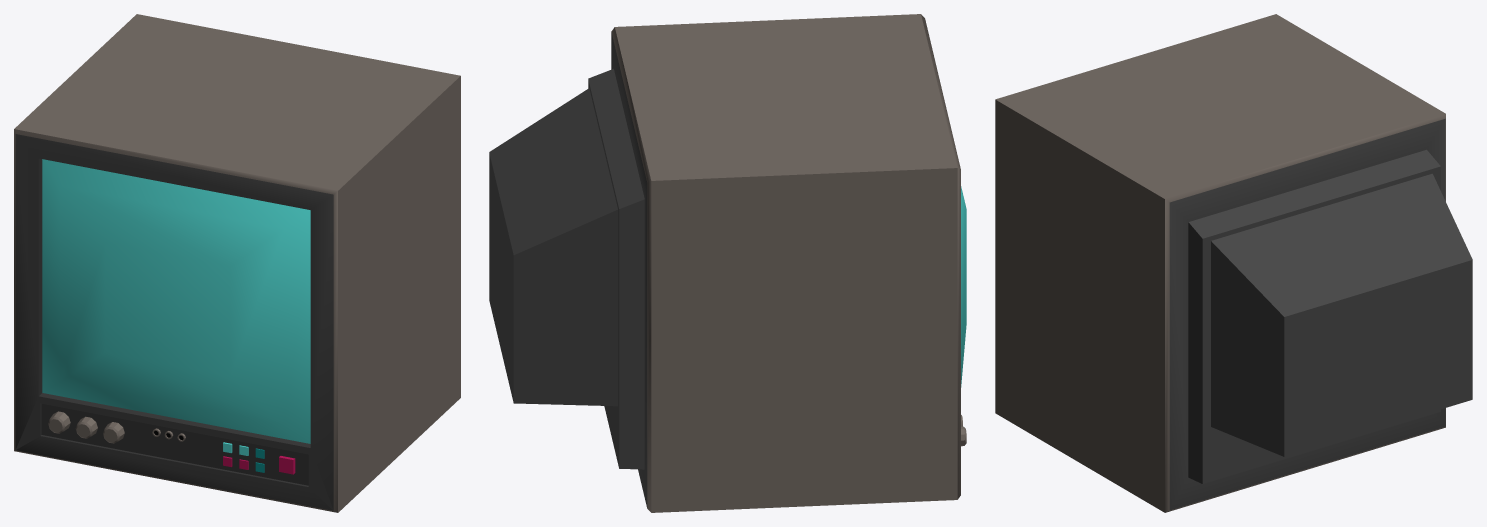
The model's file is Monitor2.fbx.
The picture shows the model from 3 angles, left to right: view 1: azimuth 30°, elevation 25°; view 2: azimuth 150°, elevation 25°; view 3: azimuth 270°, elevation 25°; orthographic projection. The views are drawn at different scales.
Parts seen in each view (by area): view 1: Monitor2; view 2: Monitor2; view 3: Monitor2.
Part boxes in pixels (box(x1,y1,x2,y2)): Monitor2: box(14, 14, 460, 512); Monitor2: box(489, 14, 966, 512); Monitor2: box(995, 14, 1472, 512).
Size of the model in its own units: 3.41 by 2.33 by 3.21.
1 material, 1 textured.
